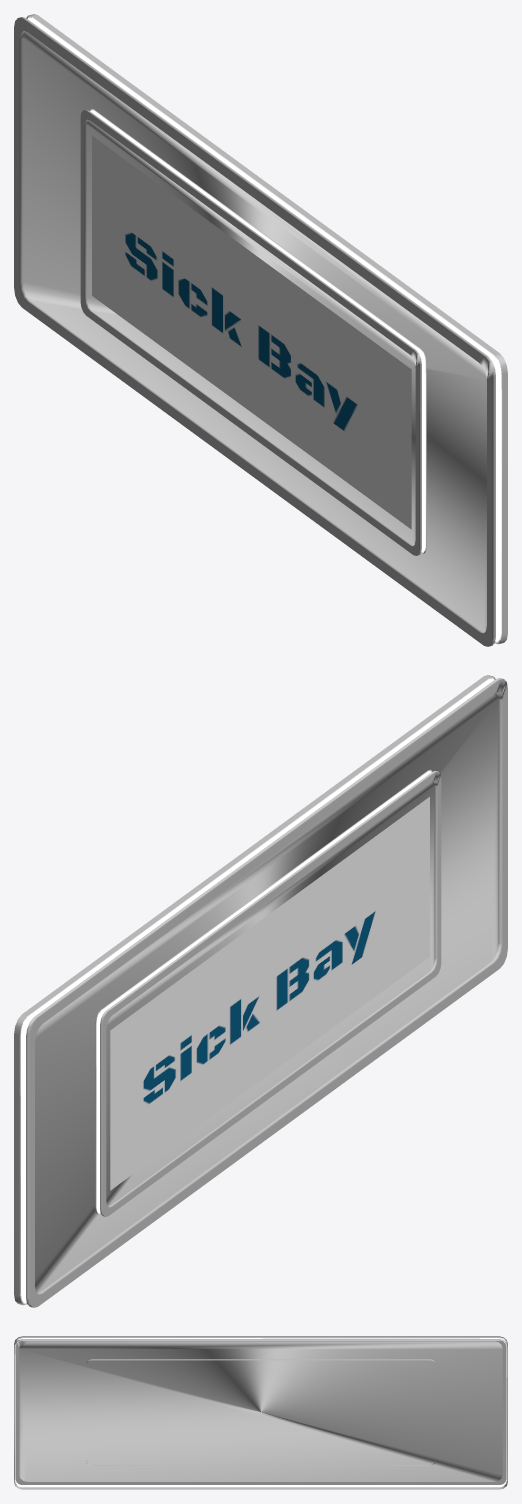
Rendered from SM_DisplayLabel.fbx.
The picture shows the model from 3 angles, top to bottom: view 1: azimuth 30°, elevation 25°; view 2: azimuth 150°, elevation 25°; view 3: azimuth 270°, elevation 25°; orthographic projection. The views are drawn at different scales.
Visible parts, largest first — view 1: SM_DisplayLabel_LOD0; view 2: SM_DisplayLabel_LOD0; view 3: SM_DisplayLabel_LOD0.
Part boxes in pixels (x1,y1,x2,y2): SM_DisplayLabel_LOD0: (14, 14, 507, 646); SM_DisplayLabel_LOD0: (14, 675, 507, 1307); SM_DisplayLabel_LOD0: (14, 1336, 507, 1489).
Size of the model in its own units: 2.14 by 30.8 by 92.45.
